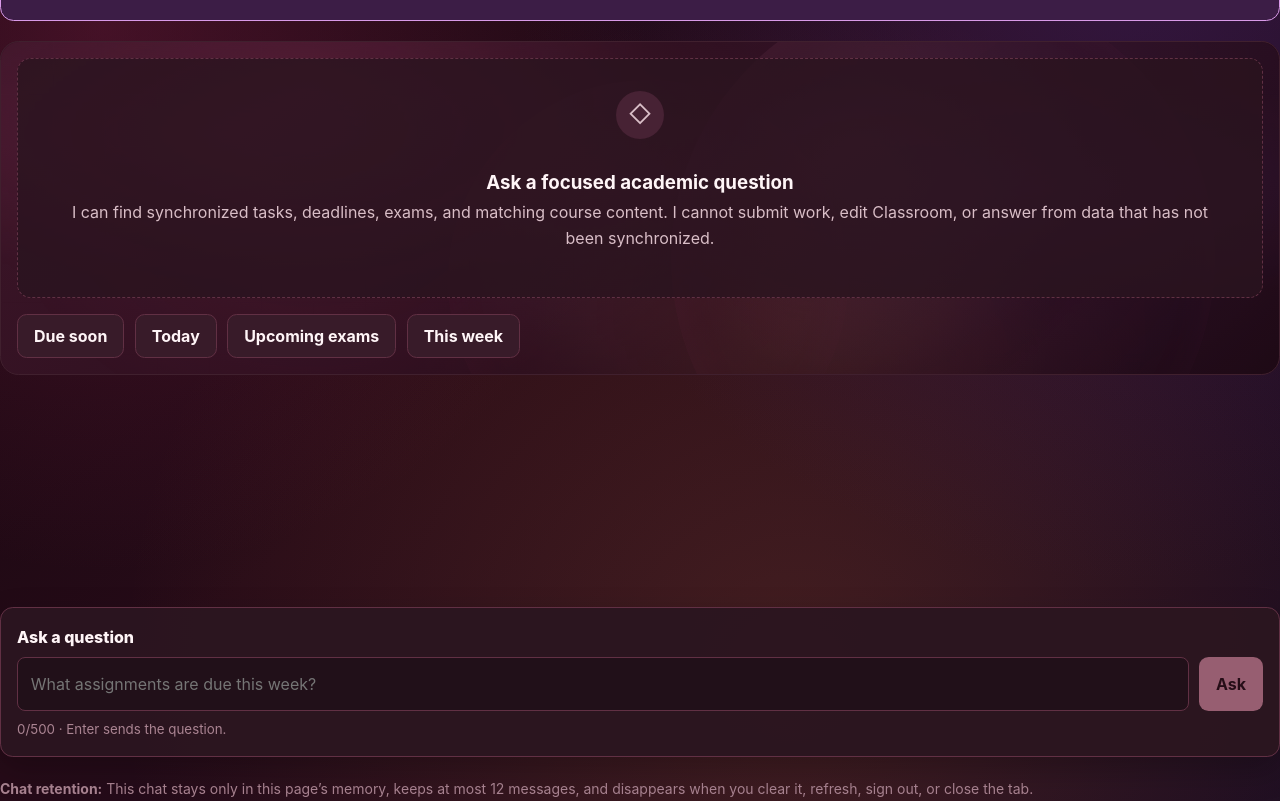
F8 assistant experience › labels AI answers, exposes contextual marks documents, and renders output as text
The width and height of the screenshot is (1280, 801).
(page scrolled)
Step 1. Type "Show my marks PDF" into the field labelled "Ask a question" → (603, 684), box x1=17 y1=657 x2=1189 y2=711
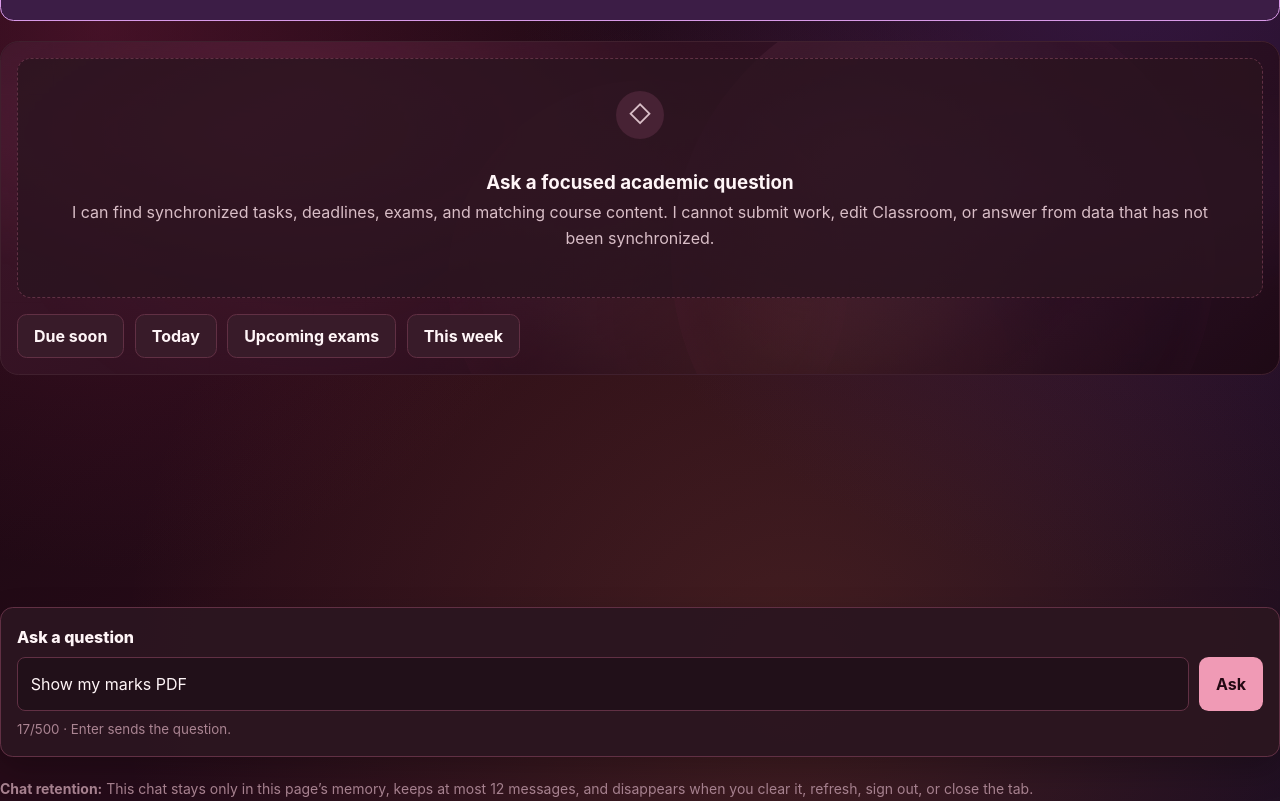
Step 2. Click the button "Ask" → (1231, 684), box x1=1199 y1=657 x2=1263 y2=711
(page scrolled)
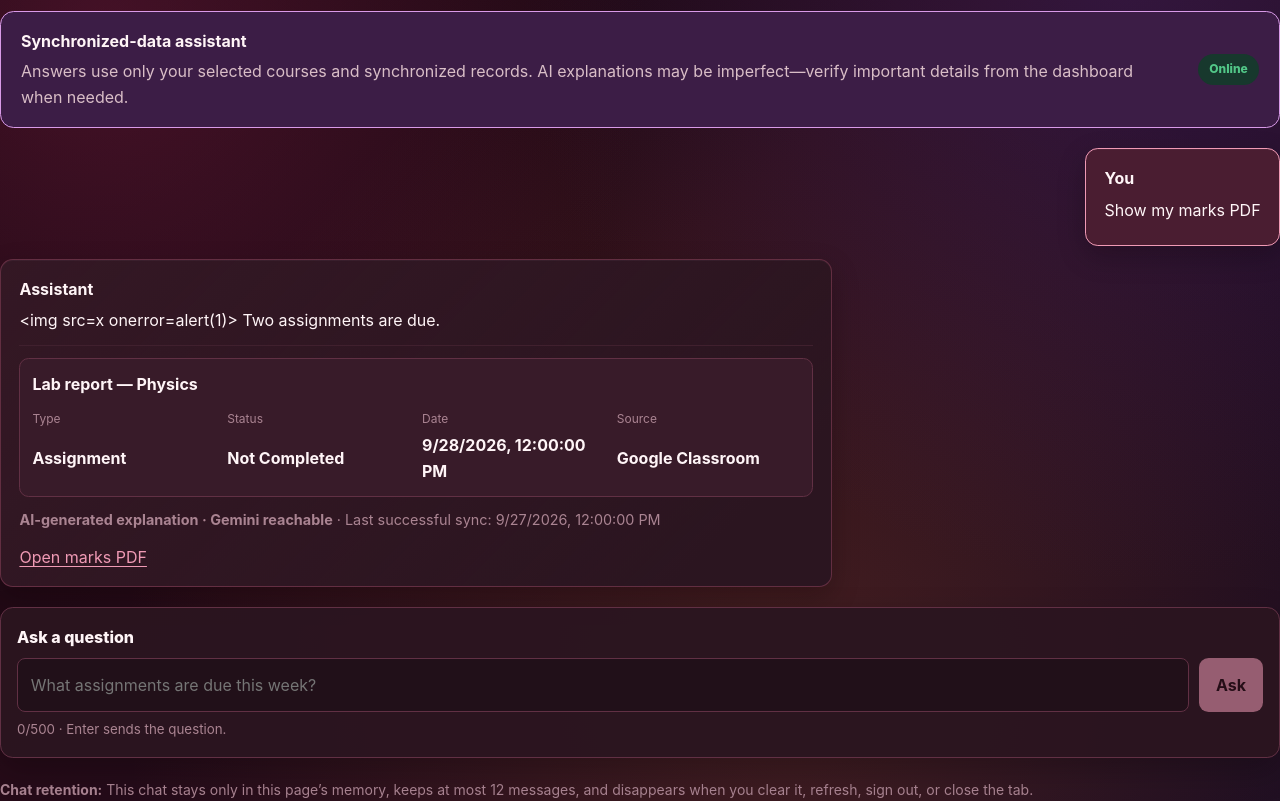
Expected: the text "<img src=x onerror=alert(1)> Two assignments are due." is shown, x1=19 y1=310 x2=440 y2=330
Expected: the text "AI-generated explanation · Gemini reachable" is shown, x1=19 y1=512 x2=333 y2=528
Expected: the element named "Matched academic item" shows "Not completed", x1=227 y1=448 x2=344 y2=468
